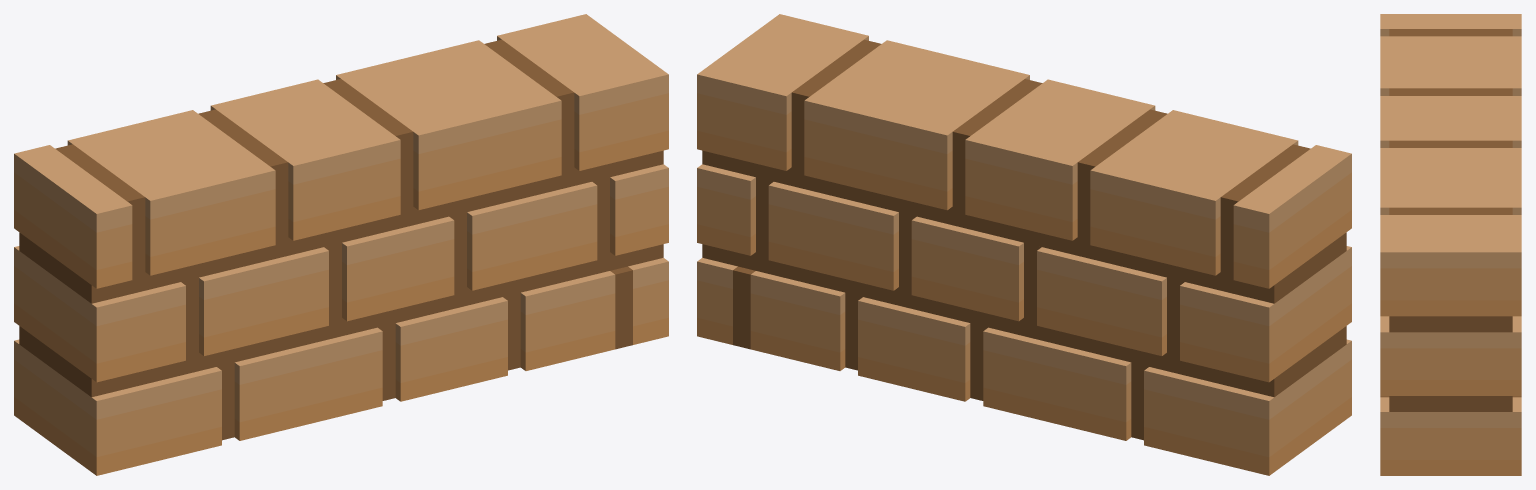
Rendered from DesertBrickWall_3Tall.fbx.
The picture shows the model from 3 angles, left to right: view 1: azimuth 30°, elevation 25°; view 2: azimuth 150°, elevation 25°; view 3: azimuth 270°, elevation 25°; orthographic projection. The views are drawn at different scales.
Parts seen in each view (by area): view 1: generated; view 2: generated; view 3: generated.
Boxes of the visible parts, left/top/right/bottom form: generated: left=14, top=14, right=668, bottom=475; generated: left=697, top=14, right=1351, bottom=475; generated: left=1380, top=14, right=1521, bottom=475.
Size of the model in its own units: 320 by 140 by 80.
